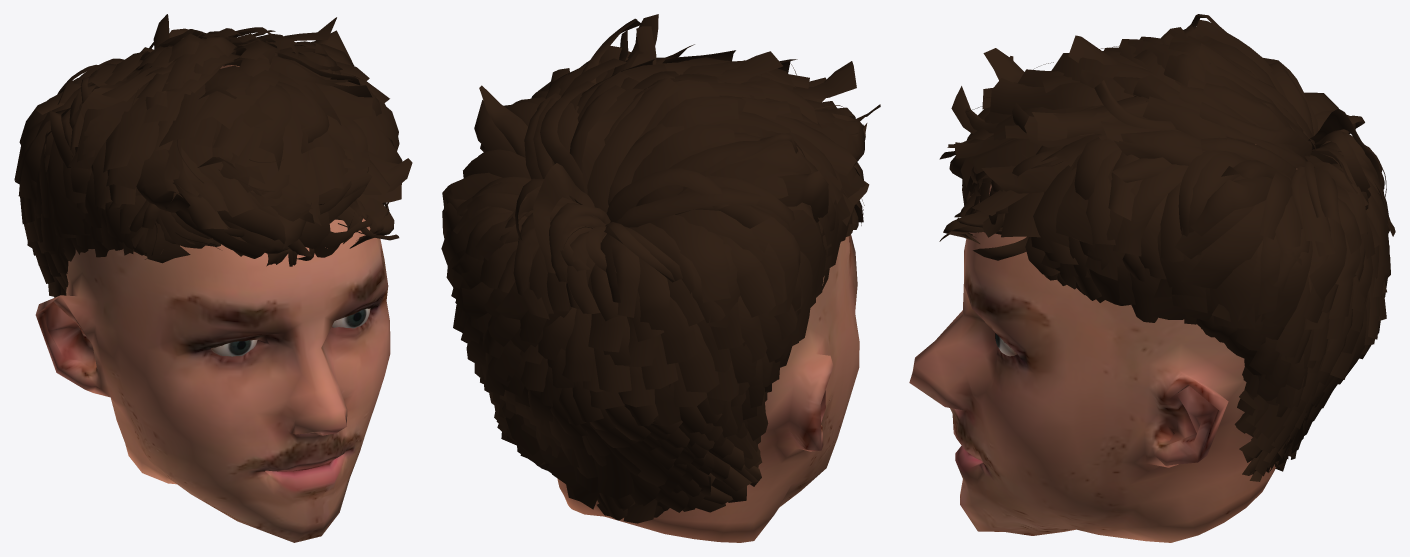
Rendered from noah.glb.
The picture shows the model from 3 angles, left to right: view 1: azimuth 30°, elevation 25°; view 2: azimuth 150°, elevation 25°; view 3: azimuth 270°, elevation 25°; orthographic projection. The views are drawn at different scales.
Parts seen in each view (by area): view 1: Hair9.002, HG_Body.002, HG_Eyes.002; view 2: Hair9.002, HG_Body.002; view 3: Hair9.002, HG_Body.002.
Part boxes in pixels (x1=…): Hair9.002: x1=14, y1=14, x2=412, y2=297; HG_Body.002: x1=35, y1=65, x2=390, y2=542; HG_Eyes.002: x1=211, y1=308, x2=370, y2=356; Hair9.002: x1=441, y1=14, x2=880, y2=523; HG_Body.002: x1=557, y1=234, x2=859, y2=542; Hair9.002: x1=939, y1=14, x2=1395, y2=481; HG_Body.002: x1=909, y1=144, x2=1296, y2=542.
Size of the model in its own units: 0.212 by 0.279 by 0.258.
Materials: 4 (3 with a texture image).
